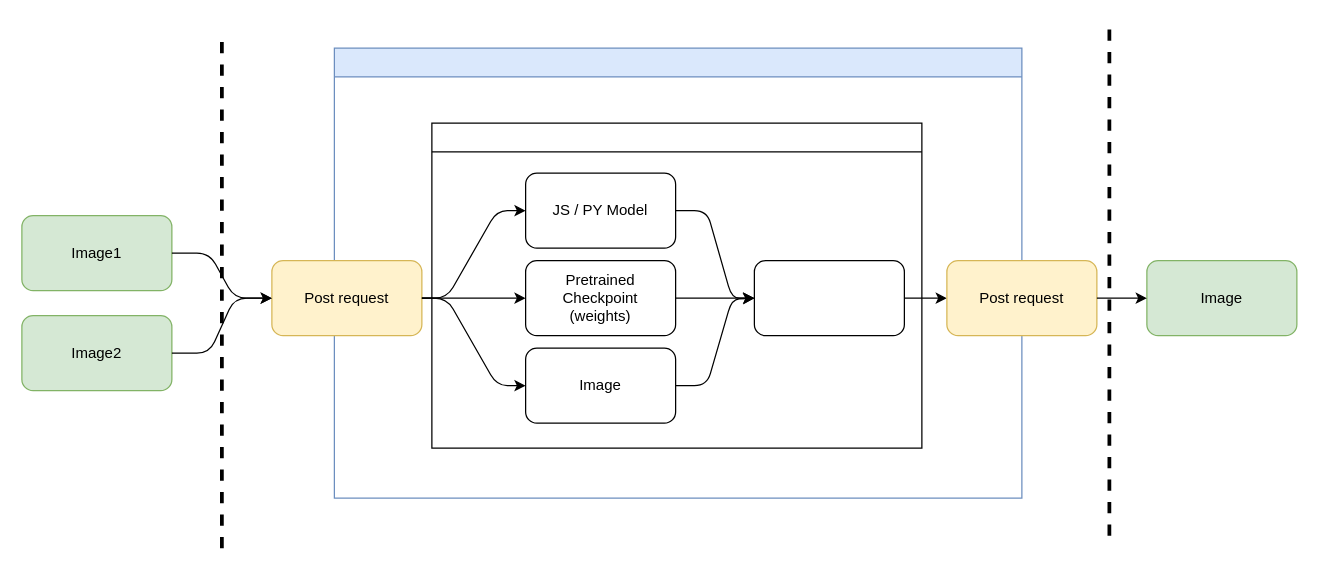
Some shapes in this 1319 by 573 pixel diagram are drawn without their labels. The shapes that lost their labels are listed below. From the top down, each one's box as (x1, y1, x2, y2) in pixels, then its label:
(431, 122, 922, 448): Load ML Model
(333, 47, 1022, 498): Flask Server
(753, 259, 904, 336): Tensorflow
